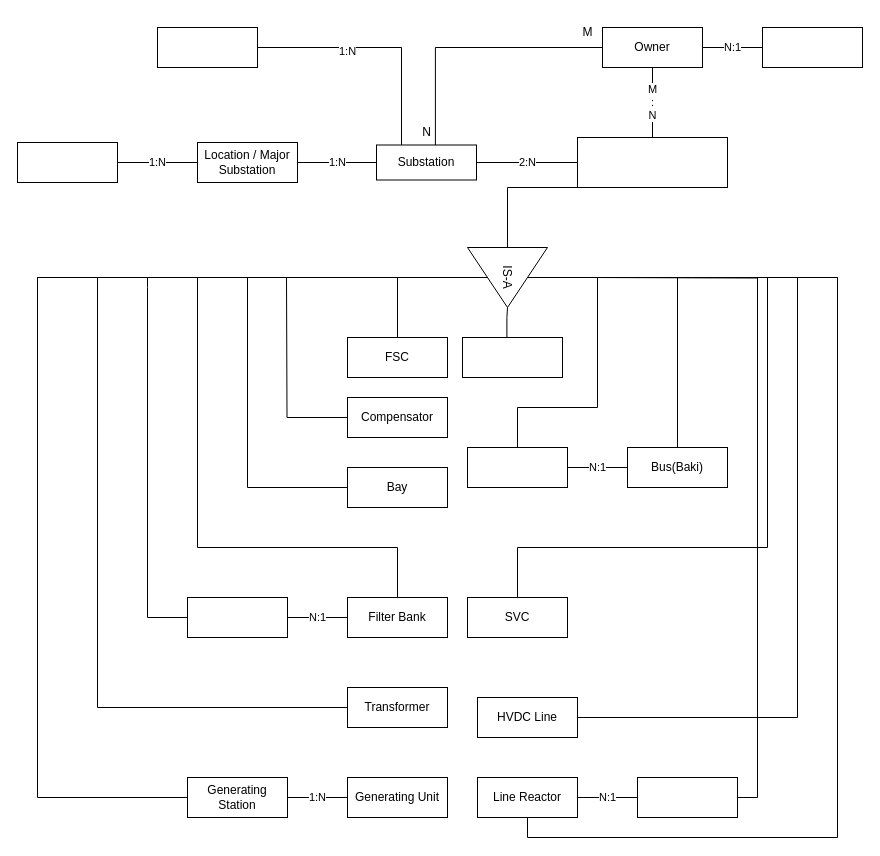
The diagram is 880 pixels wide and 856 high, and some of its shapes have lost their labels. Each missing label, with the box of its shape:
AC Transmission Line: (636, 776, 738, 818)
Bus Reactor: (466, 446, 568, 488)
Constituent: (762, 26, 862, 68)
Element: (576, 136, 728, 188)
HVDC Pole: (462, 336, 562, 378)
Region: (16, 142, 118, 182)
Sub Filter Bank: (186, 596, 288, 638)
Voltage: (156, 26, 258, 68)
